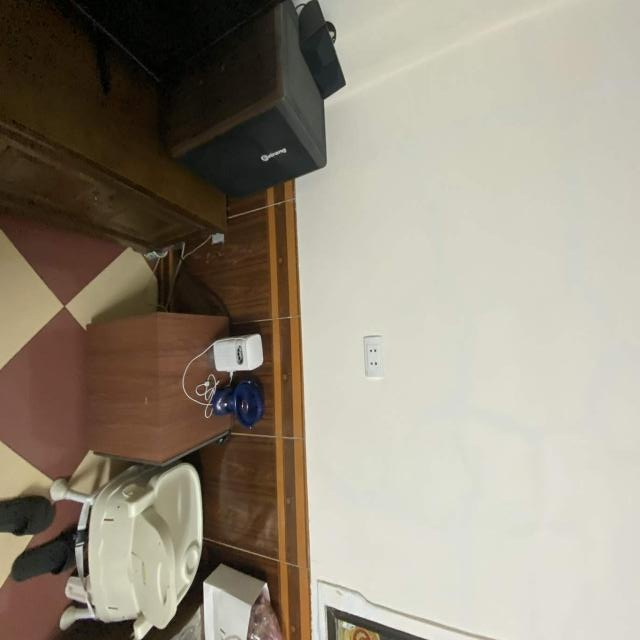outlet: (364, 335, 384, 377)
